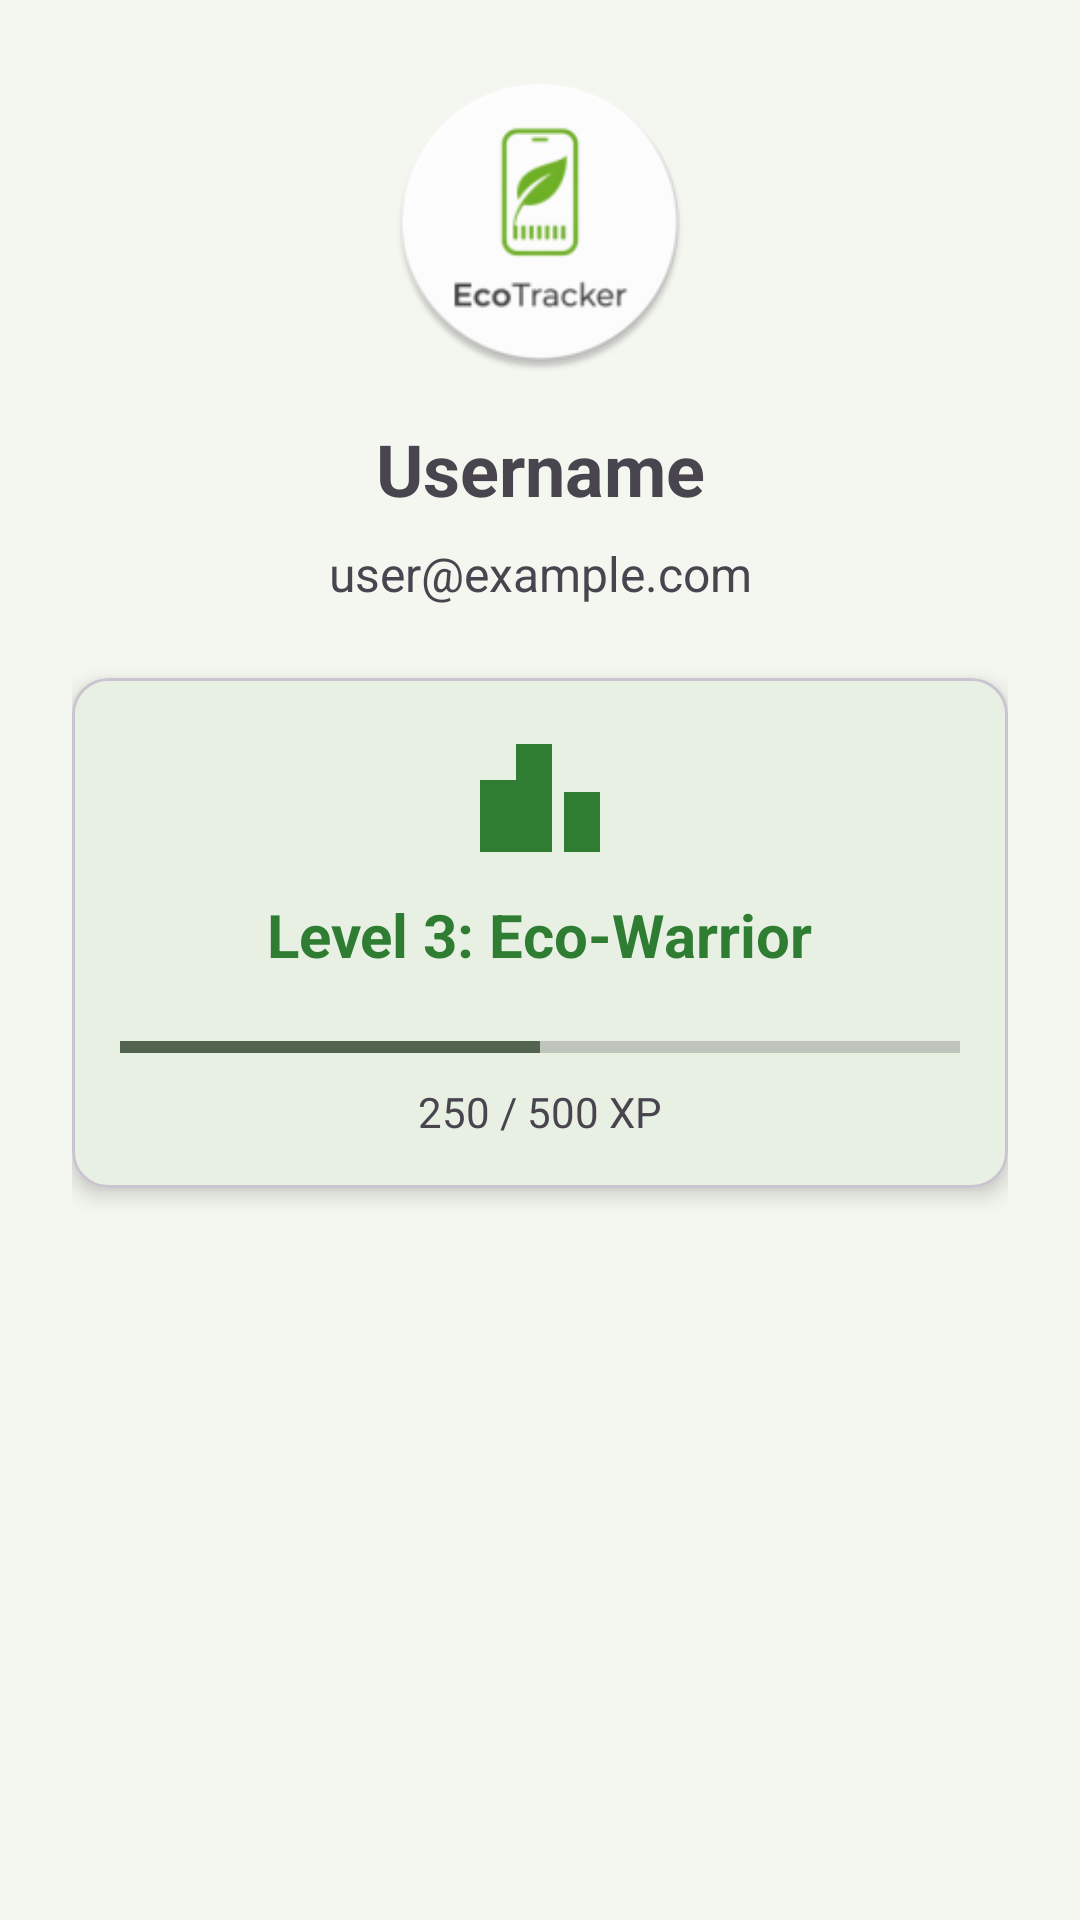

Screen size 1080×1920. Icon name, then its box in pixels as (x1, y1, x2, y2):
leaderboard: (480, 744, 600, 852)
